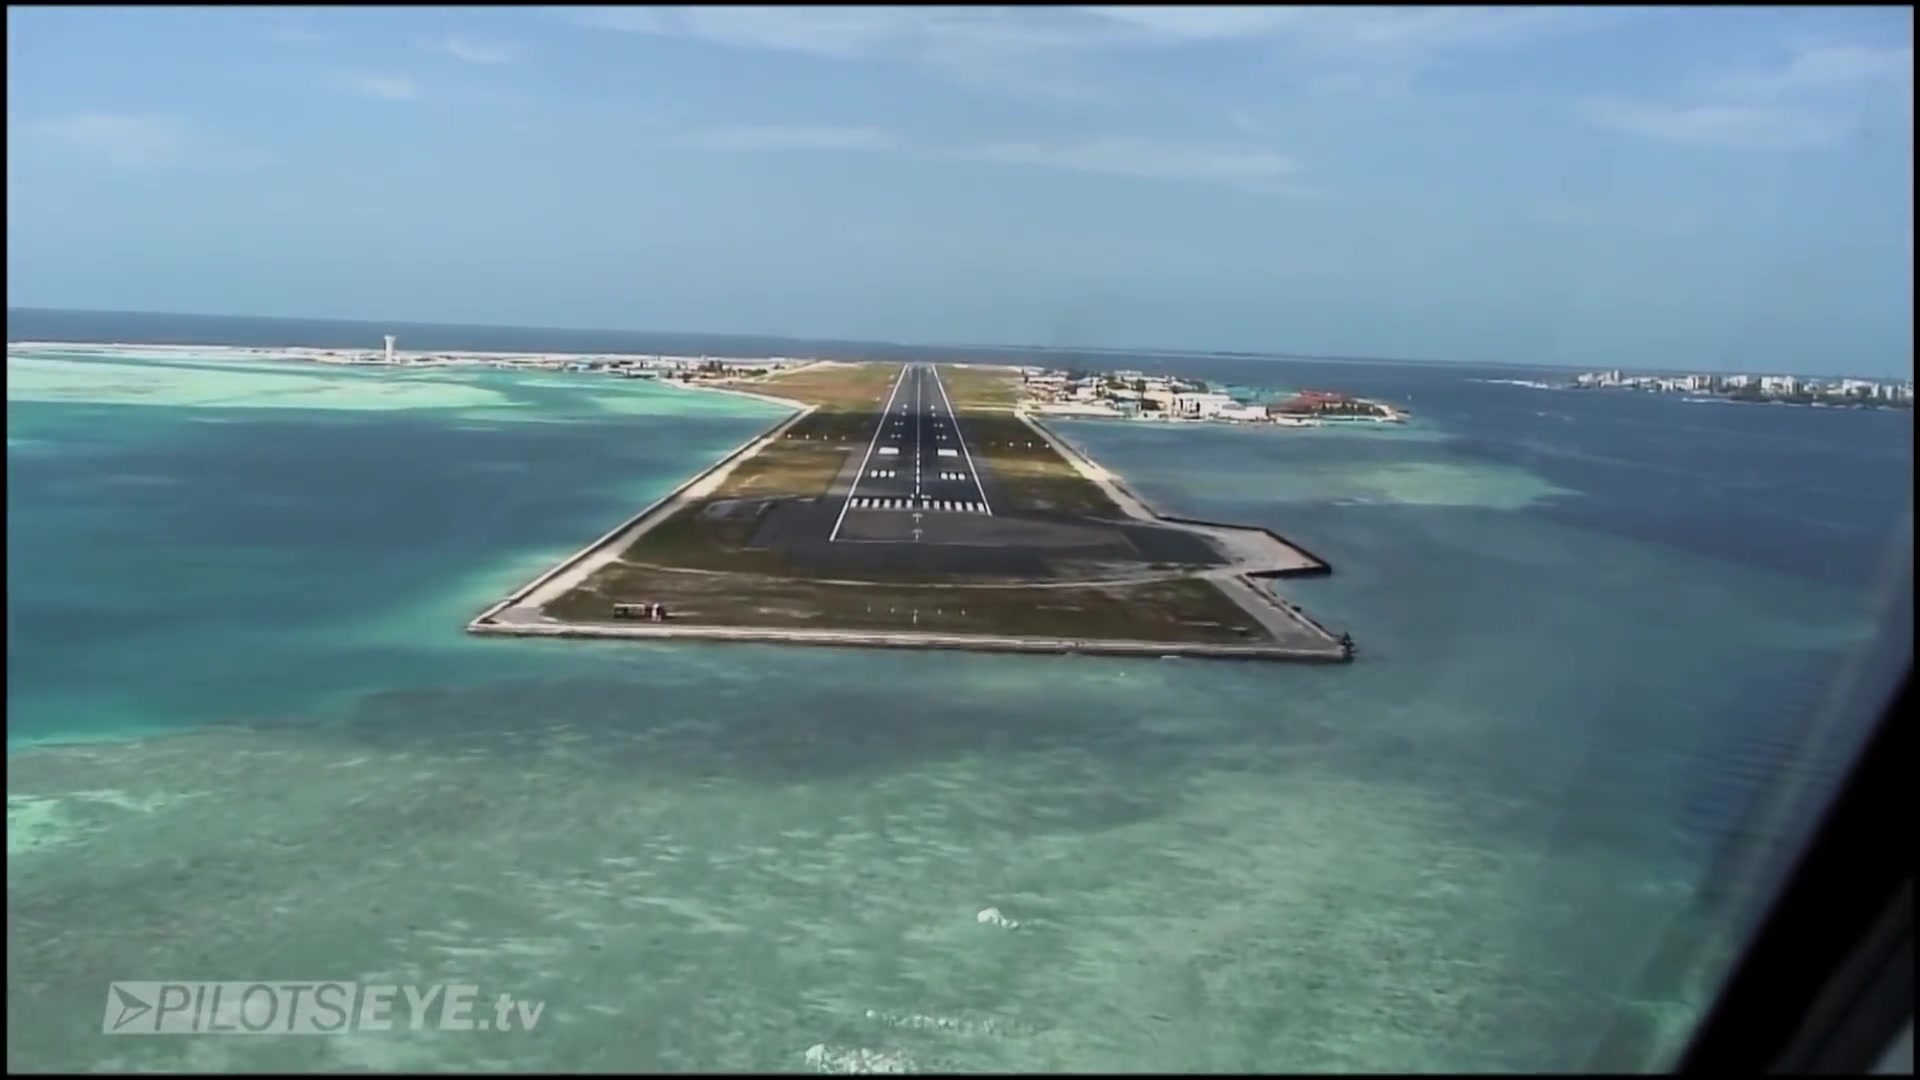entrance: (843, 489, 988, 520)
runway: (825, 363, 994, 546)
